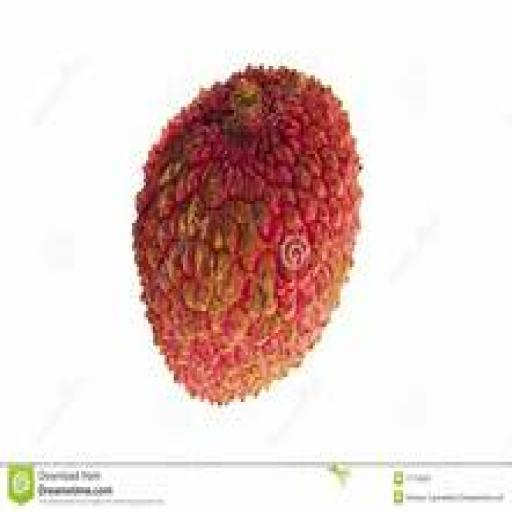lychee: (135, 66, 361, 402)
